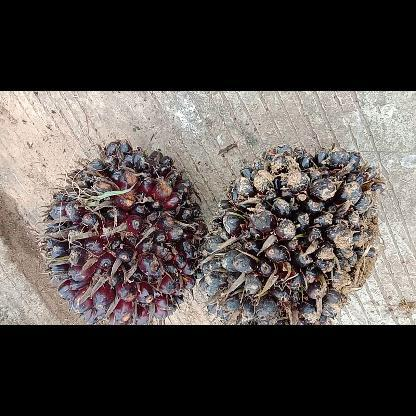TBS mentah: (200, 142, 388, 324), (38, 138, 209, 324)
